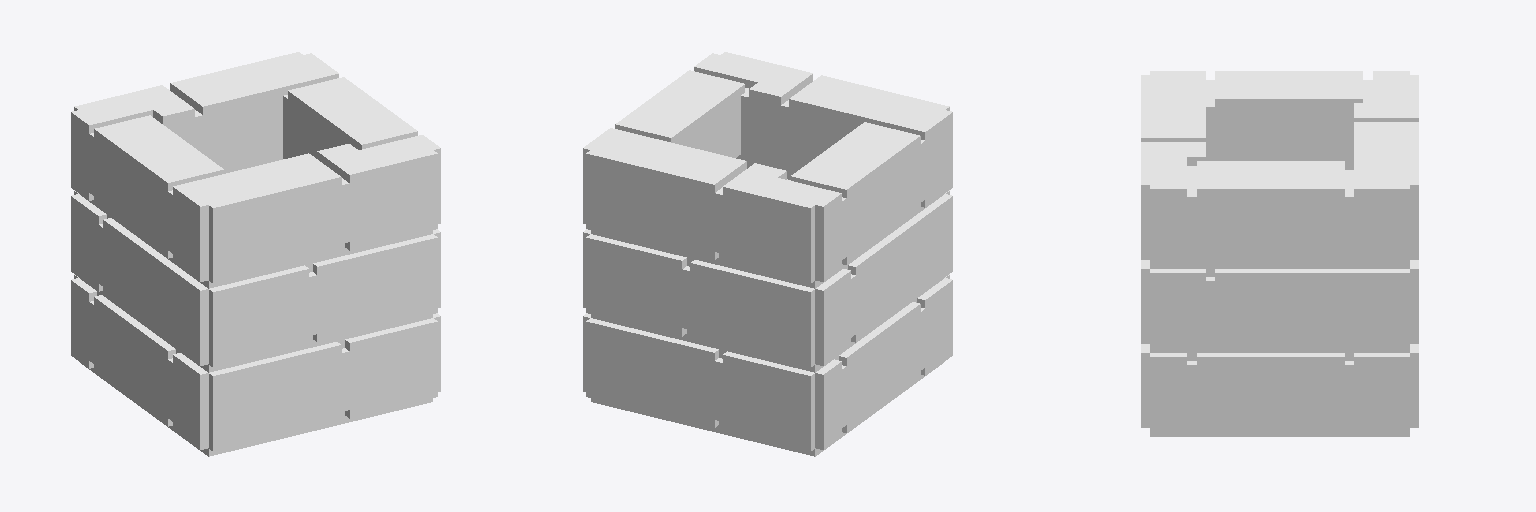
File: Tilemap_C0_W02.obj
3 renders of one model, left to right at view 1: azimuth 30°, elevation 25°; view 2: azimuth 150°, elevation 25°; view 3: azimuth 270°, elevation 25°, orthographic.
Visible parts, largest first — view 1: object 1; view 2: object 1; view 3: object 1.
Boxes of the visible parts, x1,y1,x2,y2 form: object 1: [71, 52, 440, 456]; object 1: [583, 52, 952, 456]; object 1: [1141, 71, 1418, 436].
Size of the model in its own units: 3 by 3 by 3.